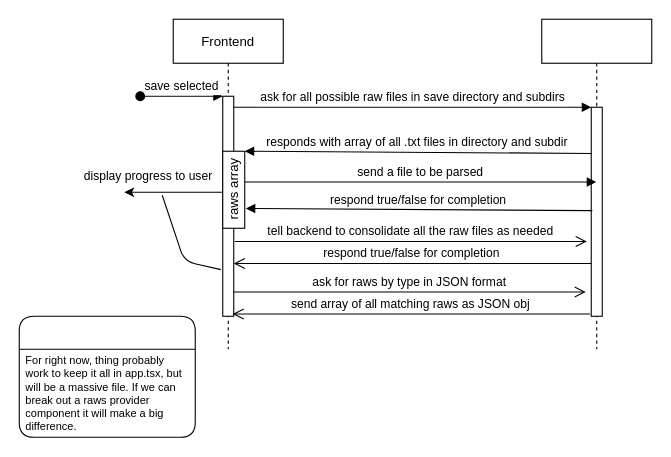
This 671x457 diagram has some shape labels left out. The shapes that lost their labels are listed below. From the top down, each one's box as (x1, y1, x2, y2) in pixels, then its label:
(541, 18, 652, 349): Backend
(18, 315, 195, 437): Frontend Raws Provider
